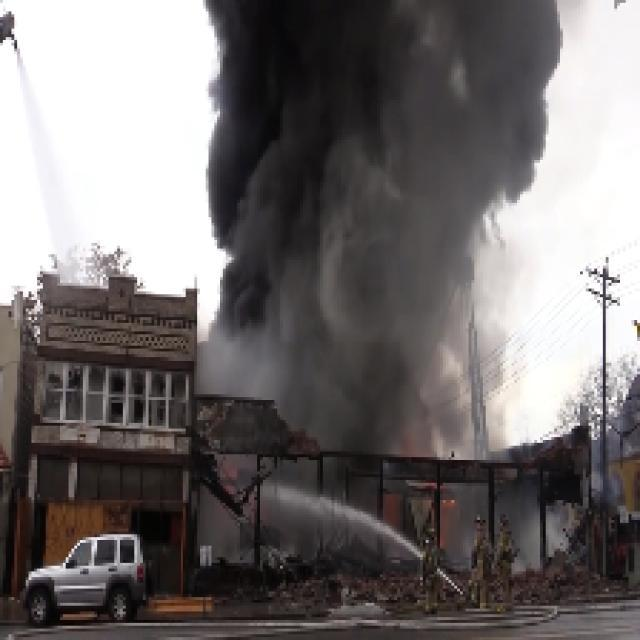Smoke: (202, 2, 558, 432)
